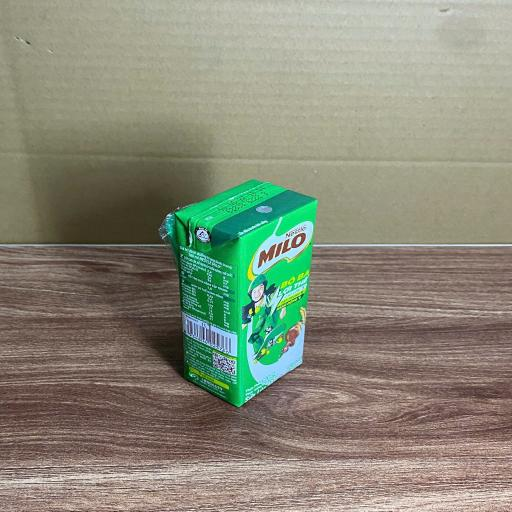milo: (169, 181, 317, 406)
